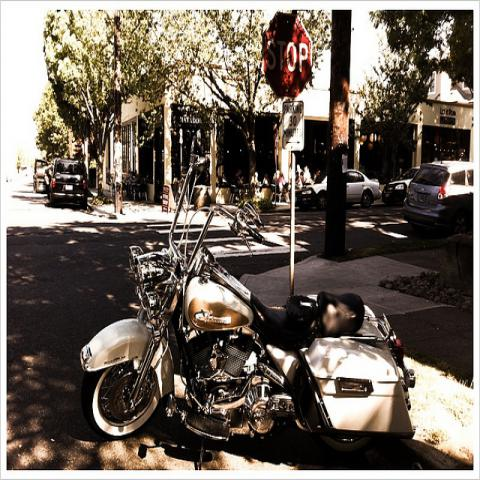car: (402, 160, 473, 236), (299, 168, 381, 214), (49, 158, 86, 211), (382, 164, 420, 207)
motorcycle: (79, 158, 407, 440)
